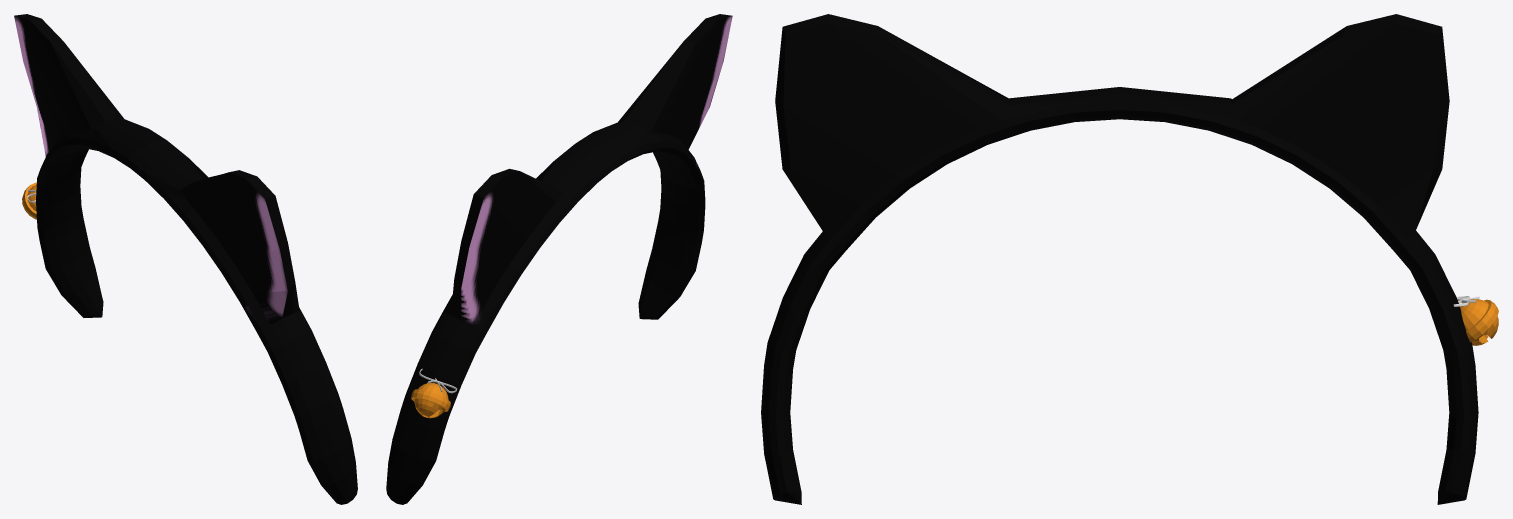
File: hat_cat_ears.glb
3 views of the same model, side by side, from view 1: azimuth 30°, elevation 25°; view 2: azimuth 150°, elevation 25°; view 3: azimuth 270°, elevation 25° (orthographic). The views are drawn at different scales.
Visible parts, largest first — view 1: Hatmodel; view 2: Hatmodel; view 3: Hatmodel.
Boxes of the visible parts, x1,y1,x2,y2 form: Hatmodel: (14,14,357,504); Hatmodel: (386,14,732,504); Hatmodel: (761,14,1498,504).
Bounding box in the file's own units: 0.9937 × 3.08 × 4.72.
Materials: 3 (1 with a texture image).
